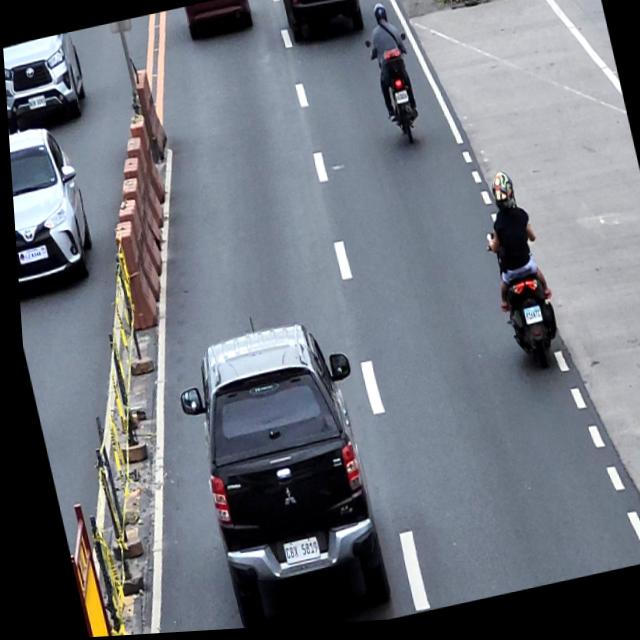Car: (161, 312, 396, 633), (6, 119, 97, 296), (2, 31, 90, 133), (279, 0, 366, 48)
License-Plate: (272, 536, 314, 569), (14, 246, 46, 265), (519, 311, 539, 331), (26, 95, 46, 111), (392, 95, 407, 108)
Motorcycle: (479, 227, 562, 382), (364, 35, 427, 153)
